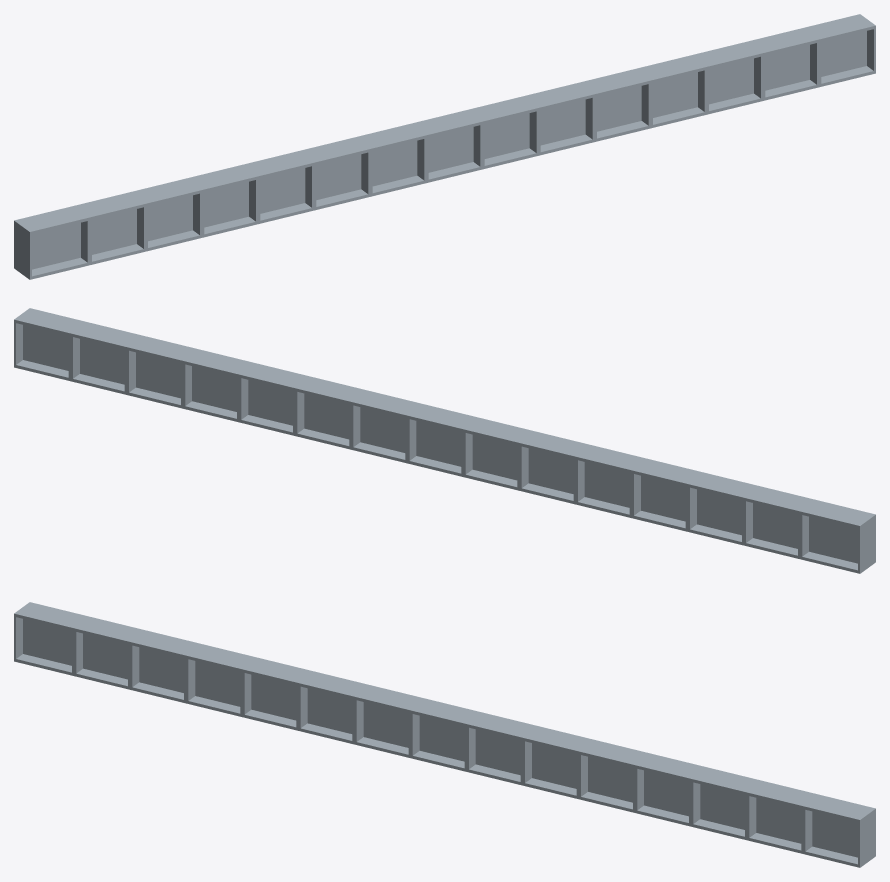
File: SM06_Building_Structure_Beam_01_Default.fbx
3 renders of one model, top to bottom at view 1: azimuth 30°, elevation 25°; view 2: azimuth 150°, elevation 25°; view 3: azimuth 330°, elevation 25°, orthographic.
Parts seen in each view (by area): view 1: SM06_Building_Structure_Beam_01_Default; view 2: SM06_Building_Structure_Beam_01_Default; view 3: SM06_Building_Structure_Beam_01_Default.
Boxes of the visible parts, <box> form: SM06_Building_Structure_Beam_01_Default: <box>14,14,875,279</box>; SM06_Building_Structure_Beam_01_Default: <box>14,308,875,573</box>; SM06_Building_Structure_Beam_01_Default: <box>14,602,875,867</box>.
Bounding box in the file's own units: 15 × 0.8109 × 0.4862.
